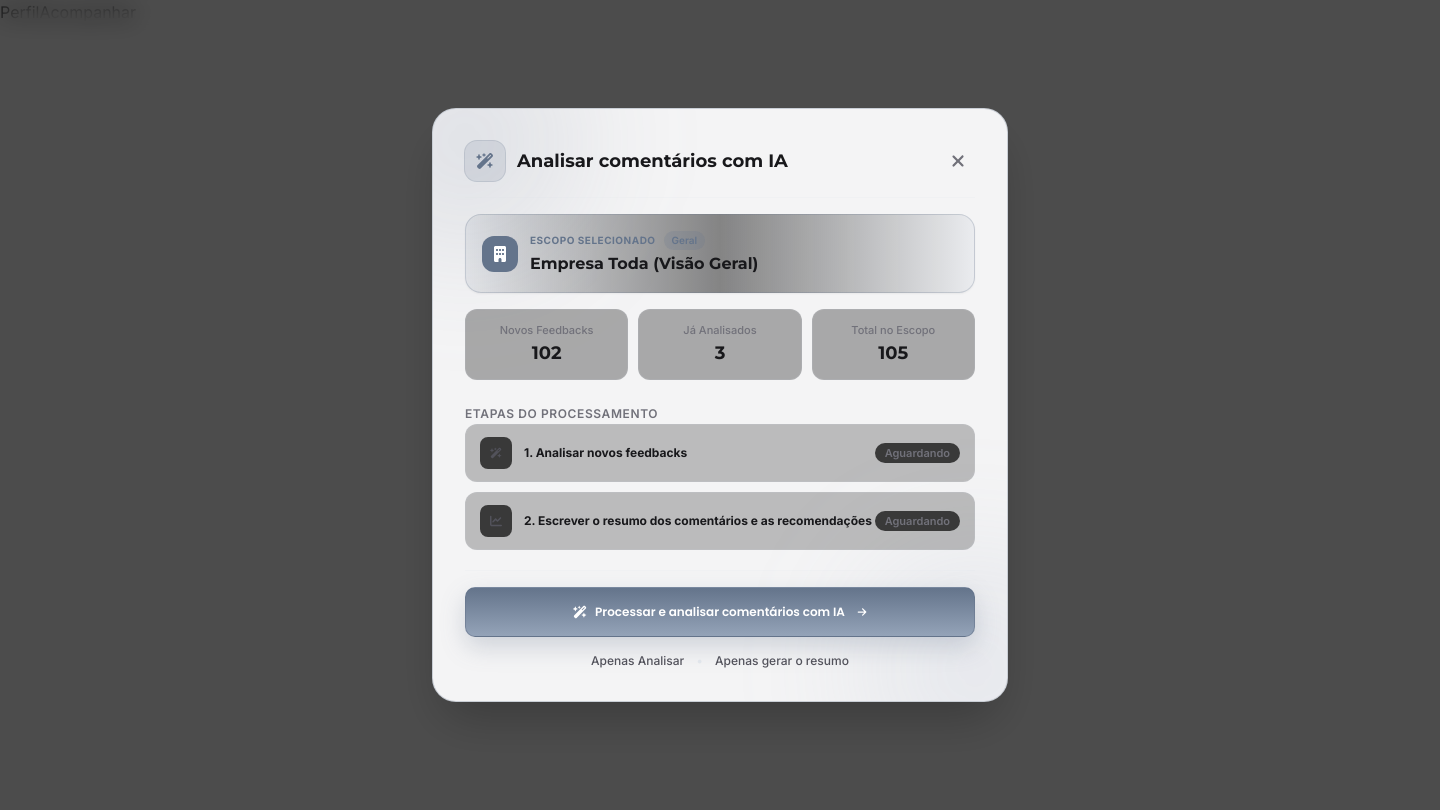
Test: fluxo integrado com React Router real (IA simulada) › falha ao enfileirar permite tentar de novo, sem reutilizar resposta anterior
Click the button "Processar e analisar comentários com IA": point(720, 612) [465,587,975,637]
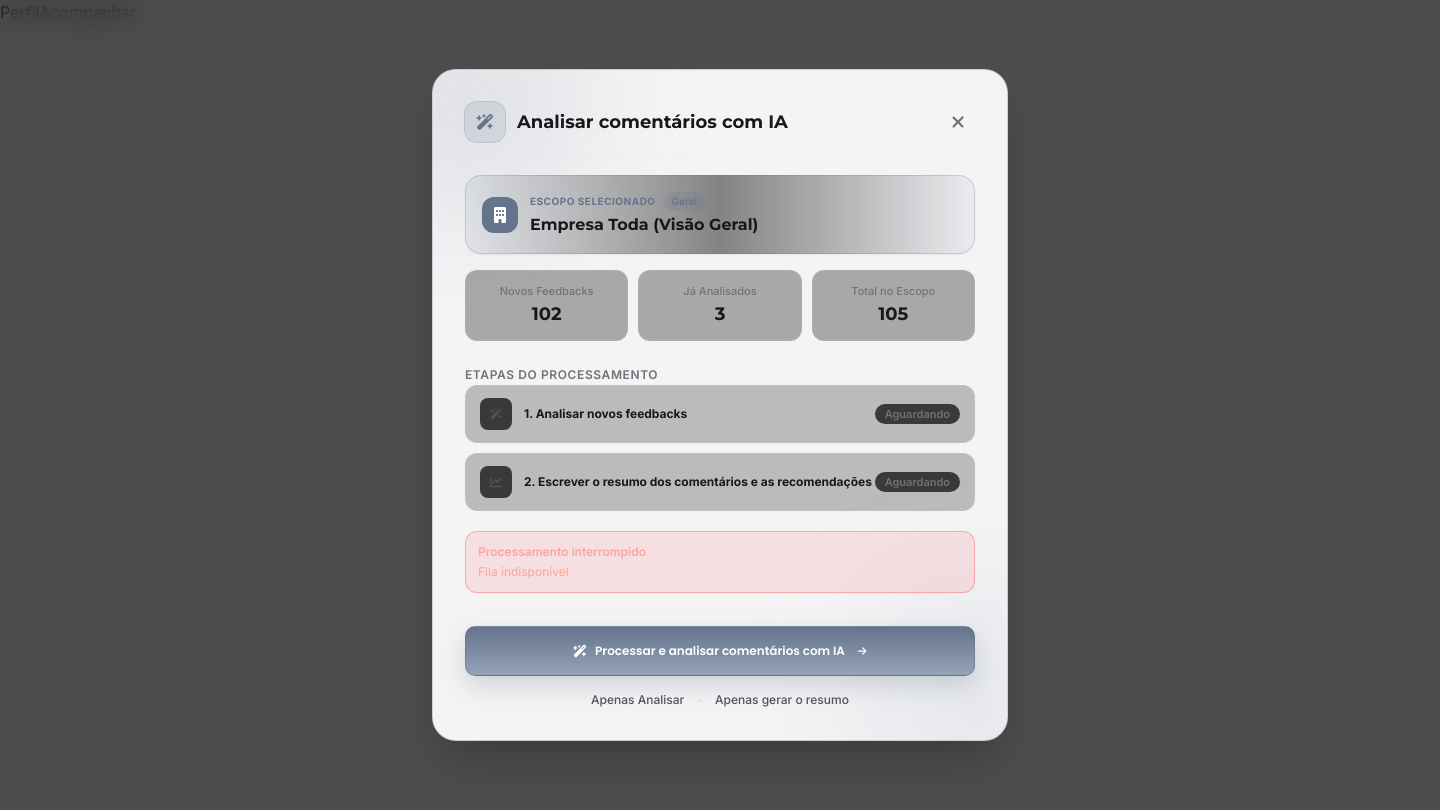
Expected: the message shows "Fila indisponível", [478,564,568,579]
Click the button "Processar e analisar comentários com IA": point(720, 651) [465,626,975,676]
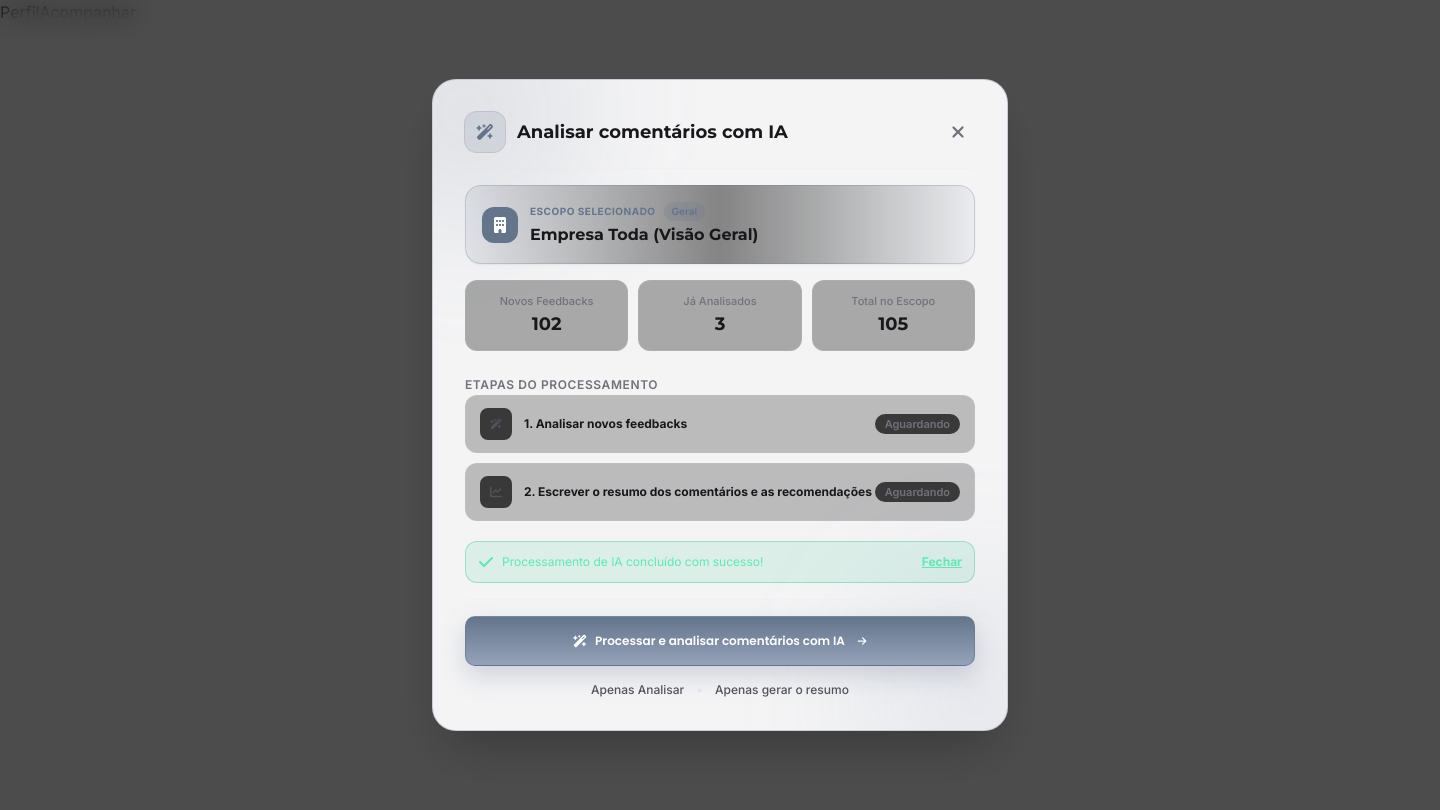
Expected: the text "Processamento de IA concluído com sucesso!" is shown, [502,554,763,570]
